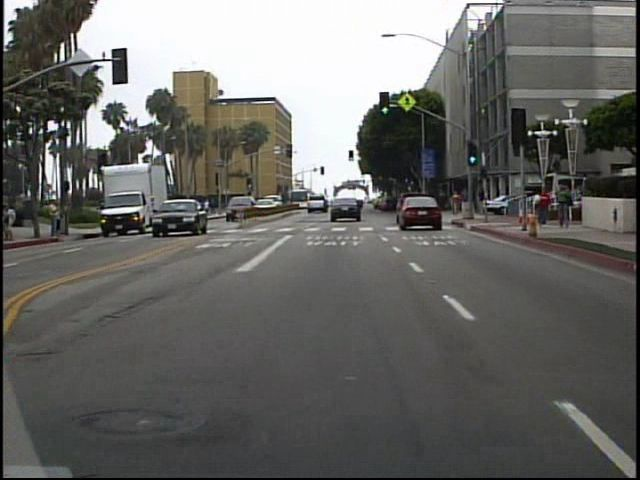person: (47, 194, 65, 239), (447, 190, 463, 218)
